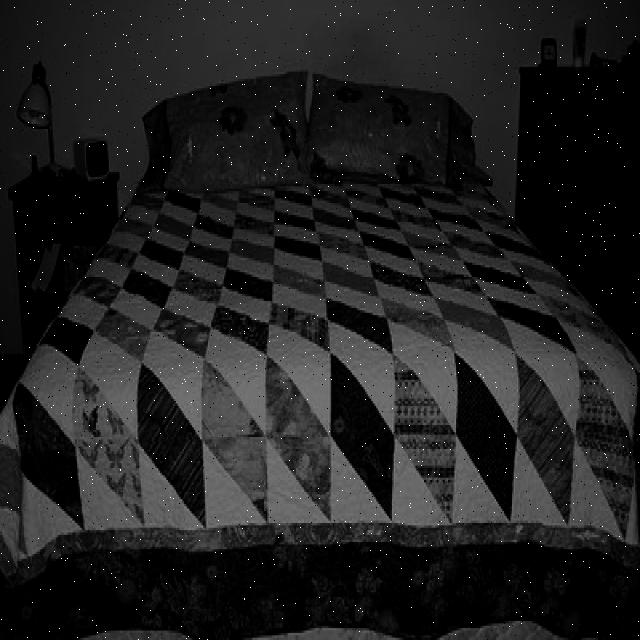bed: (16, 67, 640, 640)
